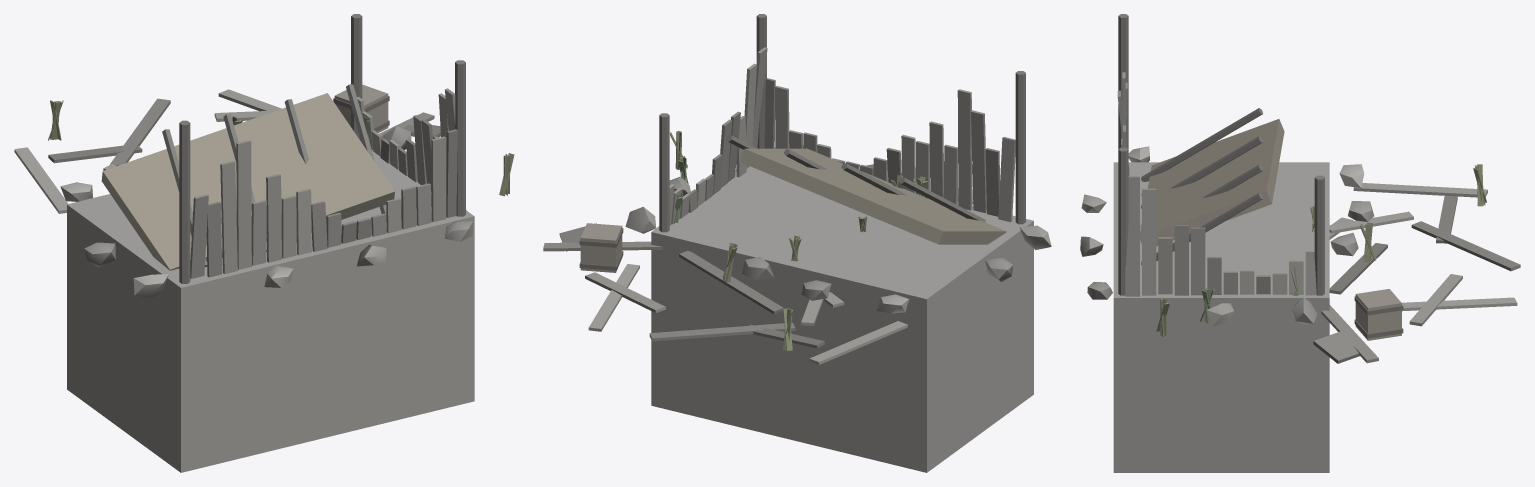
Rendered from workshop_0.gltf.
The picture shows the model from 3 angles, left to right: view 1: azimuth 30°, elevation 25°; view 2: azimuth 150°, elevation 25°; view 3: azimuth 270°, elevation 25°; orthographic projection. The views are drawn at different scales.
Visible parts, largest first — view 1: Body; view 2: Body; view 3: Body.
Part boxes in pixels (<box>): Body: <box>14,14,514,472</box>; Body: <box>543,14,1051,472</box>; Body: <box>1080,14,1520,472</box>.
Bounding box in the file's own units: 7.05 × 5.49 × 6.73.
